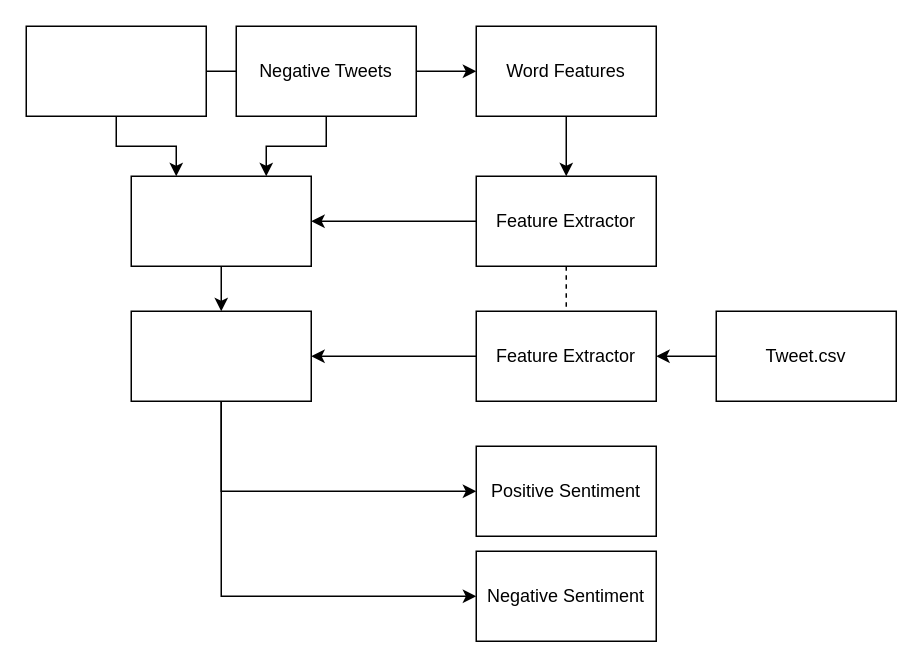
The diagram is 923 pixels wide and 668 high, and some of its shapes have lost their labels. Here are the shapes that lost their labels. From the top down, the centre of each, then its label:
At (x=115, y=70): "Positive Tweets".
At (x=220, y=220): "Training Set".
At (x=220, y=355): "Classifier".
